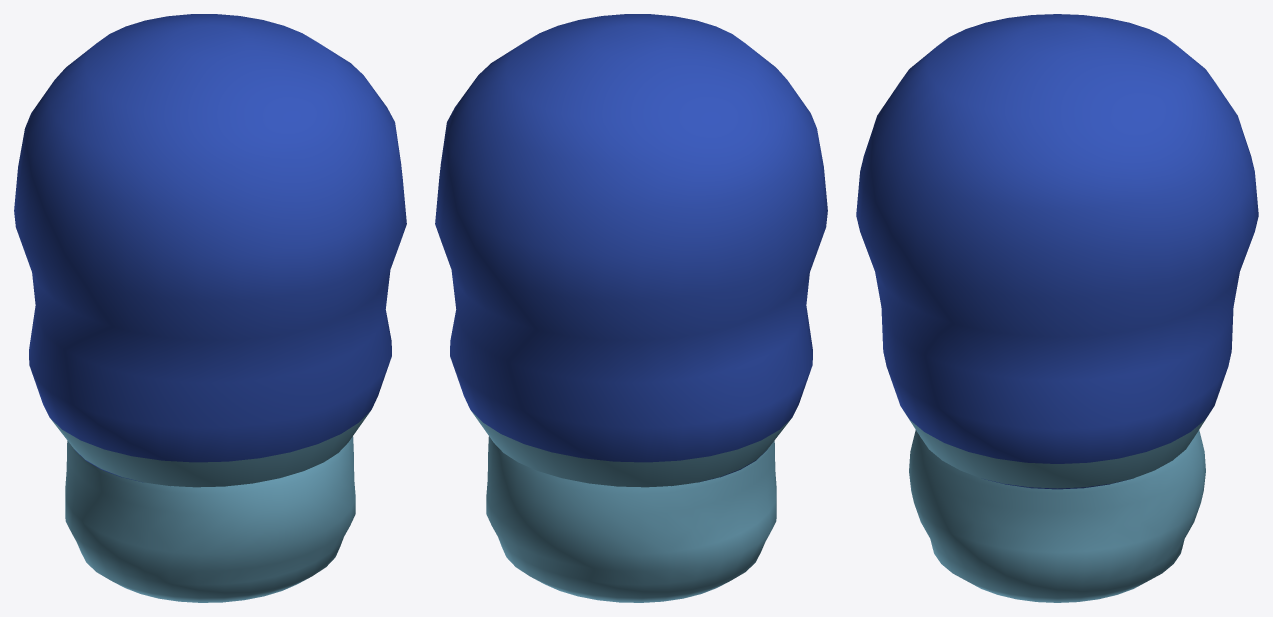
The model's file is body.gltf.
3 renders of one model, left to right at view 1: azimuth 30°, elevation 25°; view 2: azimuth 150°, elevation 25°; view 3: azimuth 270°, elevation 25°, orthographic.
Parts seen in each view (by area): view 1: body.021, Sphere.063; view 2: body.021, Sphere.063; view 3: body.021, Sphere.063.
Boxes of the visible parts, x1,y1,x2,y2 form: body.021: [14, 14, 406, 487]; Sphere.063: [65, 436, 355, 602]; body.021: [435, 14, 827, 487]; Sphere.063: [486, 436, 776, 602]; body.021: [856, 14, 1258, 489]; Sphere.063: [909, 430, 1205, 602].
Bounding box in the file's own units: 0.2714 × 0.4028 × 0.2798.
2 materials, 2 textured.
